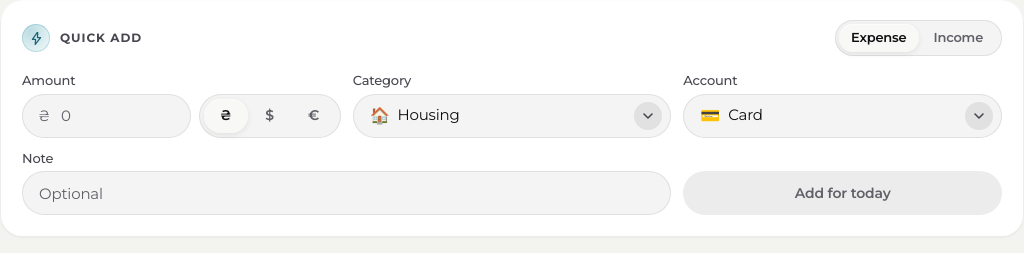
Test: QuickAddCard › adds an expense for today to the first account and clears the amount
The image size is (1024, 253).
Expected: the button "Add for today" is disabled, [683,171,1002,215]
Type "50" into the field with placeholder "0" at (106, 116), box [22,94,191,138]
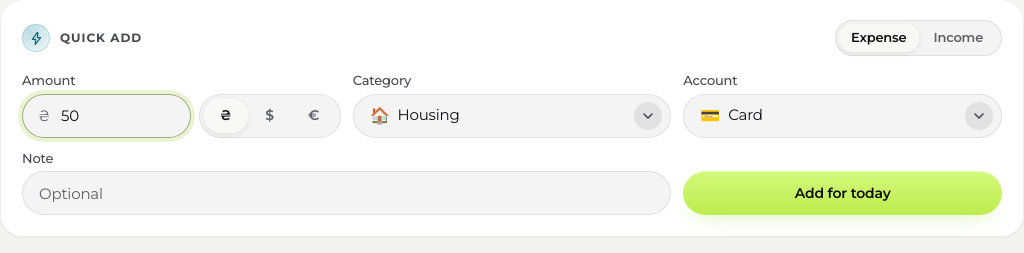
Type "  Lunch " into the field with placeholder "Optional" at (347, 193), box [22,171,671,215]
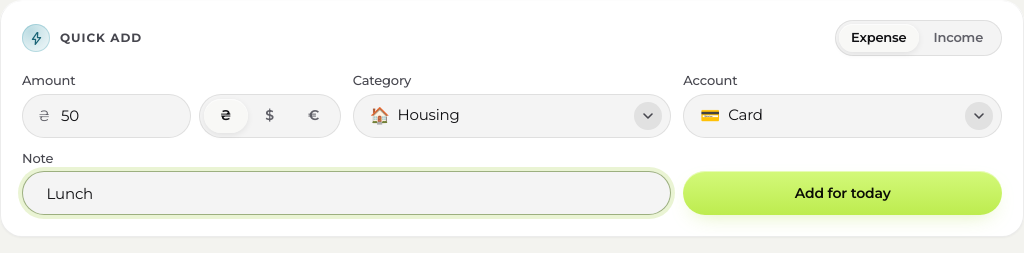
Click the button "Add for today" at (843, 193), box [683,171,1002,215]
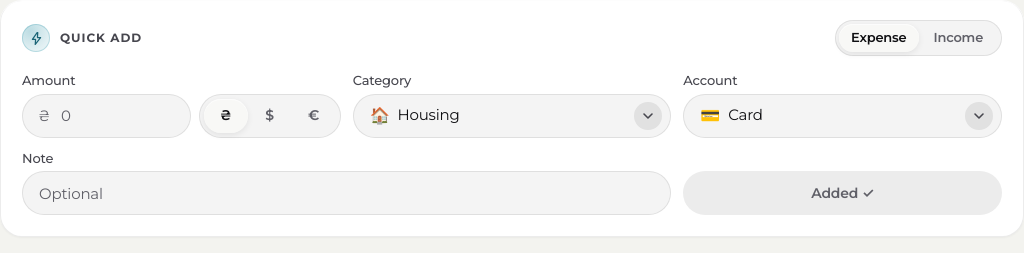
Expected: the button "Added ✓" is shown, [683,171,1002,215]
Expected: the field with placeholder "0" is empty, [22,94,191,138]
